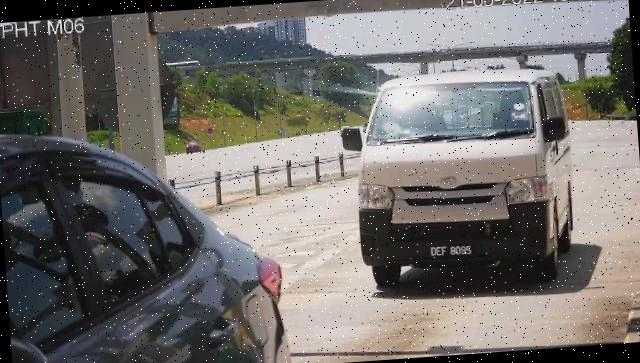License_Plate: (427, 239, 476, 264)
van: (350, 66, 580, 294)
